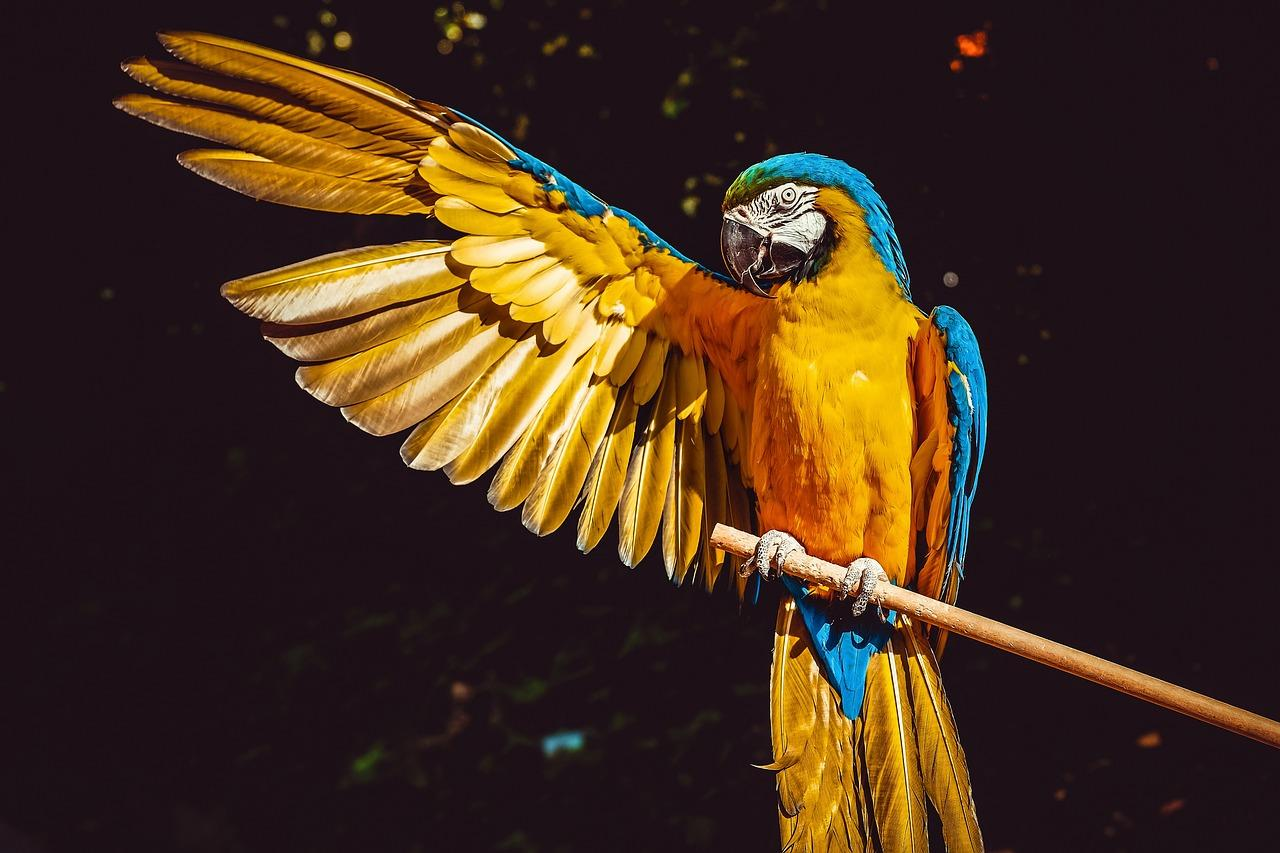bird: (116, 33, 984, 852)
